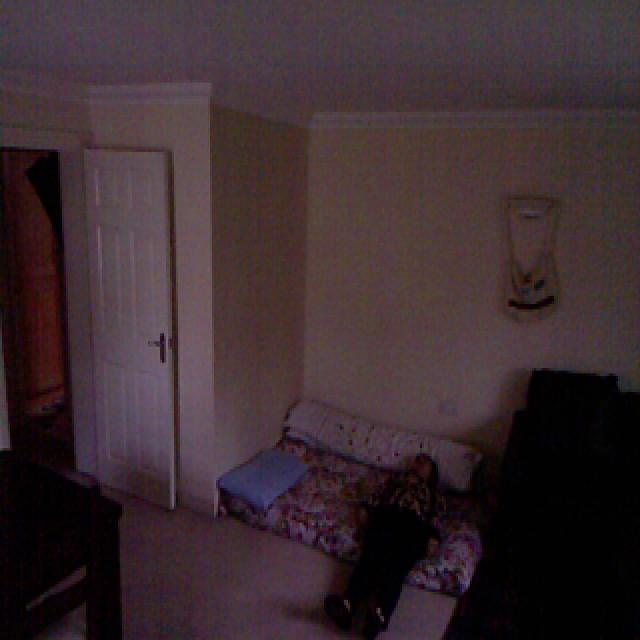Fall: (312, 437, 453, 640)
